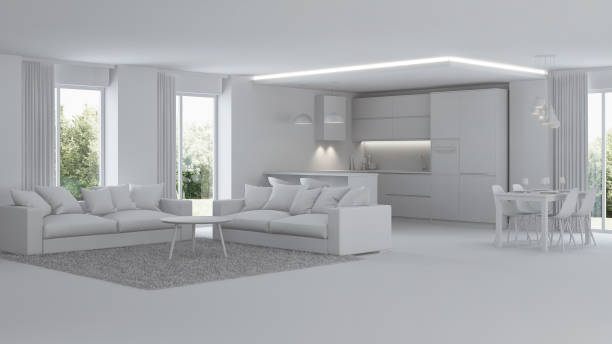dining table set: (490, 177, 603, 253)
sofa: (0, 181, 195, 259), (209, 182, 394, 261)
table: (159, 214, 232, 263)
